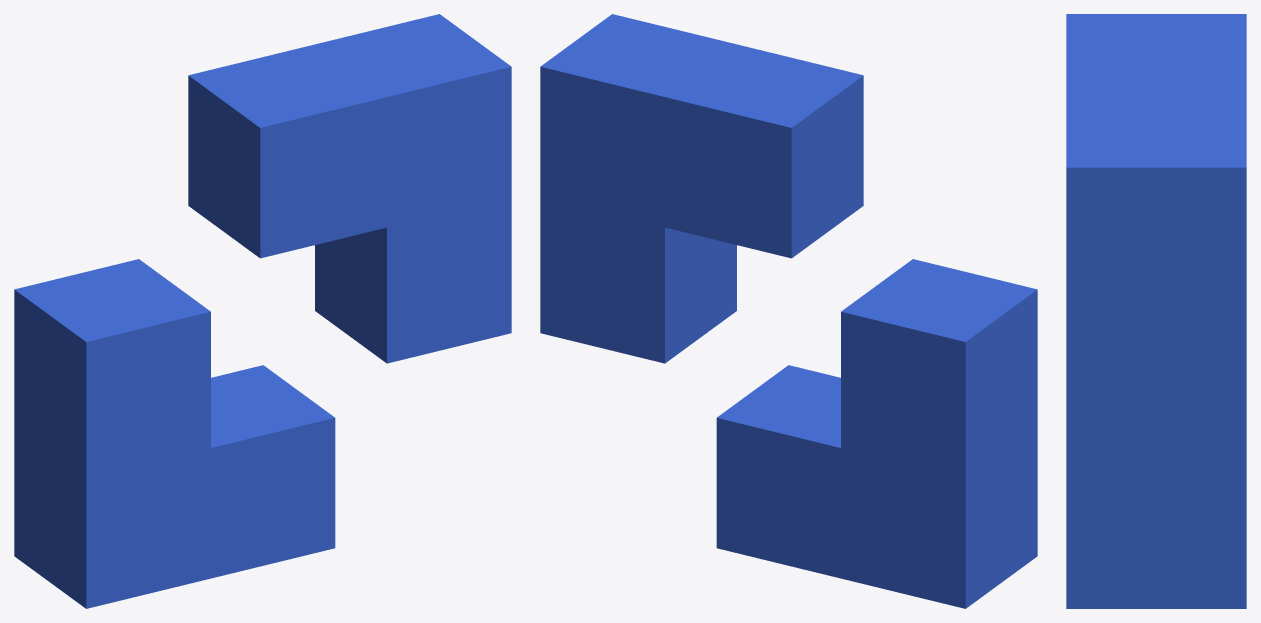
The model's file is ИВИТШ ТУДА СЮДА ДЕЛАЕТ.fbx.
3 views of the same model, side by side, from view 1: azimuth 30°, elevation 25°; view 2: azimuth 150°, elevation 25°; view 3: azimuth 270°, elevation 25° (orthographic). The views are drawn at different scales.
Parts seen in each view (by area): view 1: Cube.002, Cube.001; view 2: Cube.002, Cube.001; view 3: Cube.002, Cube.001.
Boxes of the visible parts, left/top/right/bottom form: Cube.002: left=188, top=14, right=511, bottom=363; Cube.001: left=14, top=259, right=335, bottom=608; Cube.002: left=540, top=14, right=863, bottom=363; Cube.001: left=716, top=259, right=1037, bottom=608; Cube.002: left=1066, top=14, right=1246, bottom=501; Cube.001: left=1066, top=501, right=1246, bottom=608.
Bounding box in the file's own units: 682 × 672 × 200.
